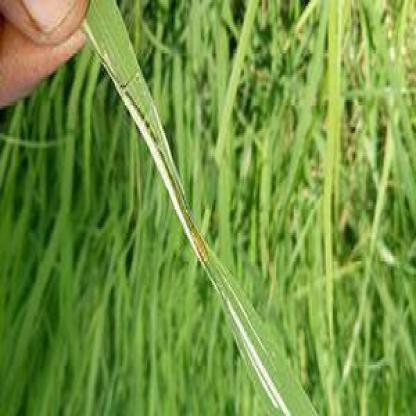leaf-folder: (173, 182, 224, 295)
